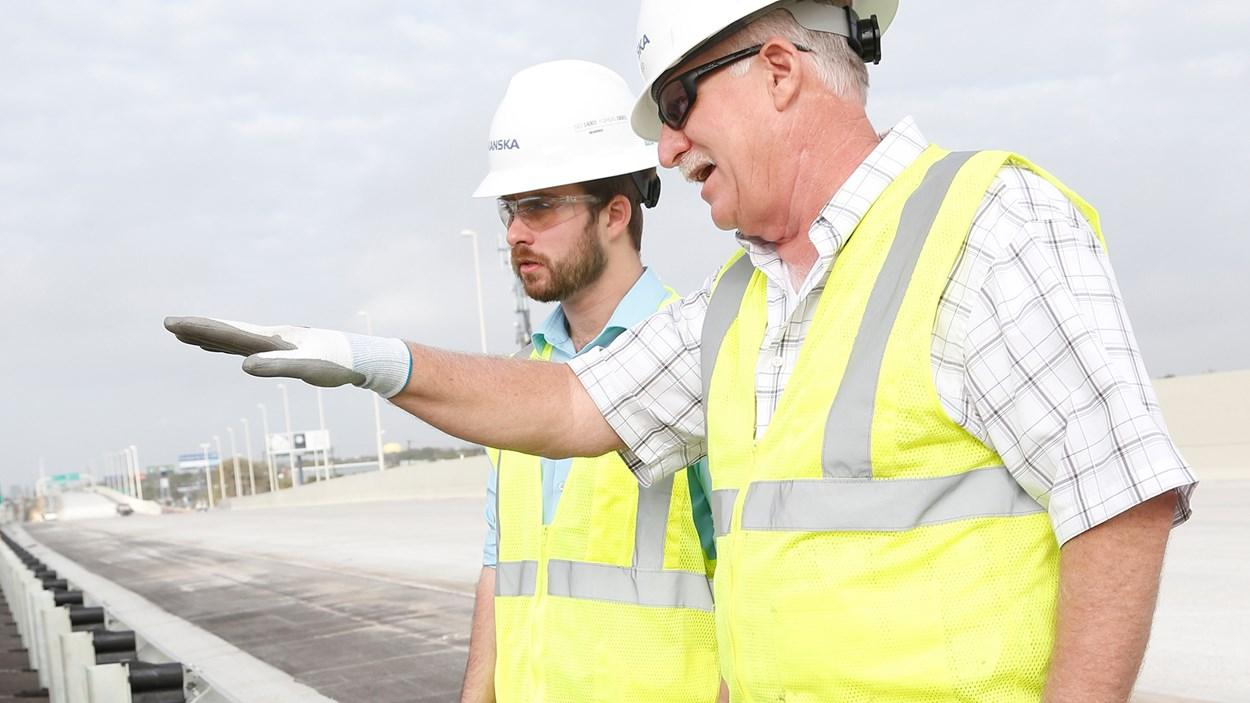helmet: (632, 1, 903, 135), (477, 58, 662, 199)
